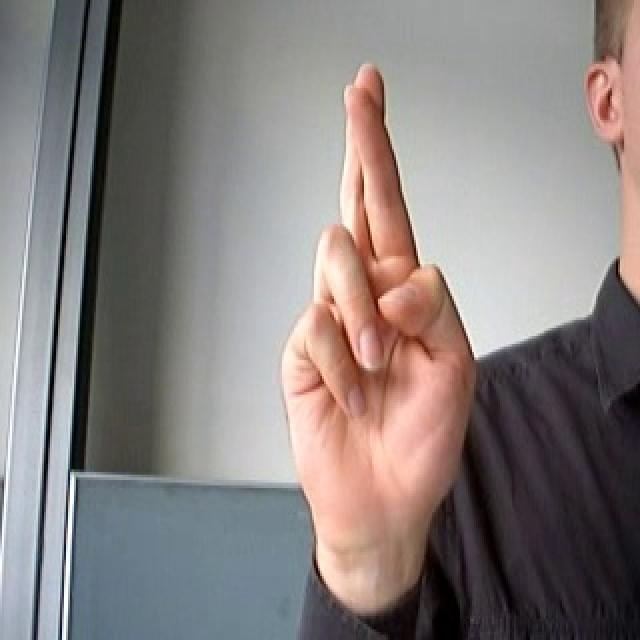R: (271, 50, 485, 556)
